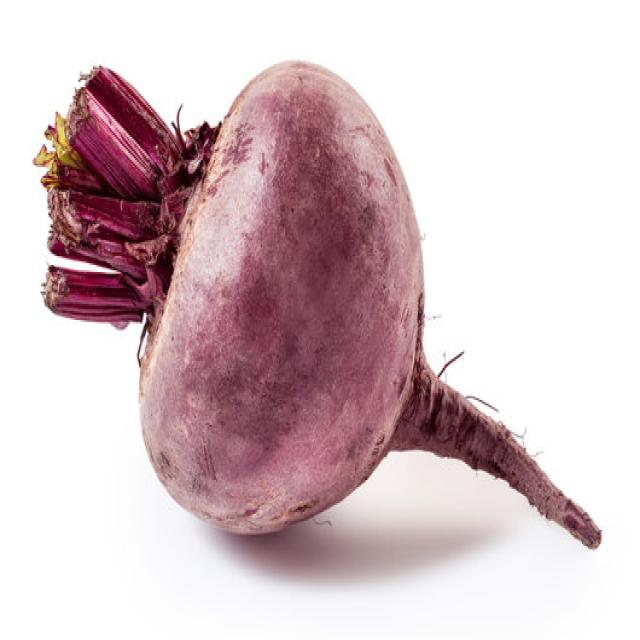Garlic: (34, 57, 601, 549)
